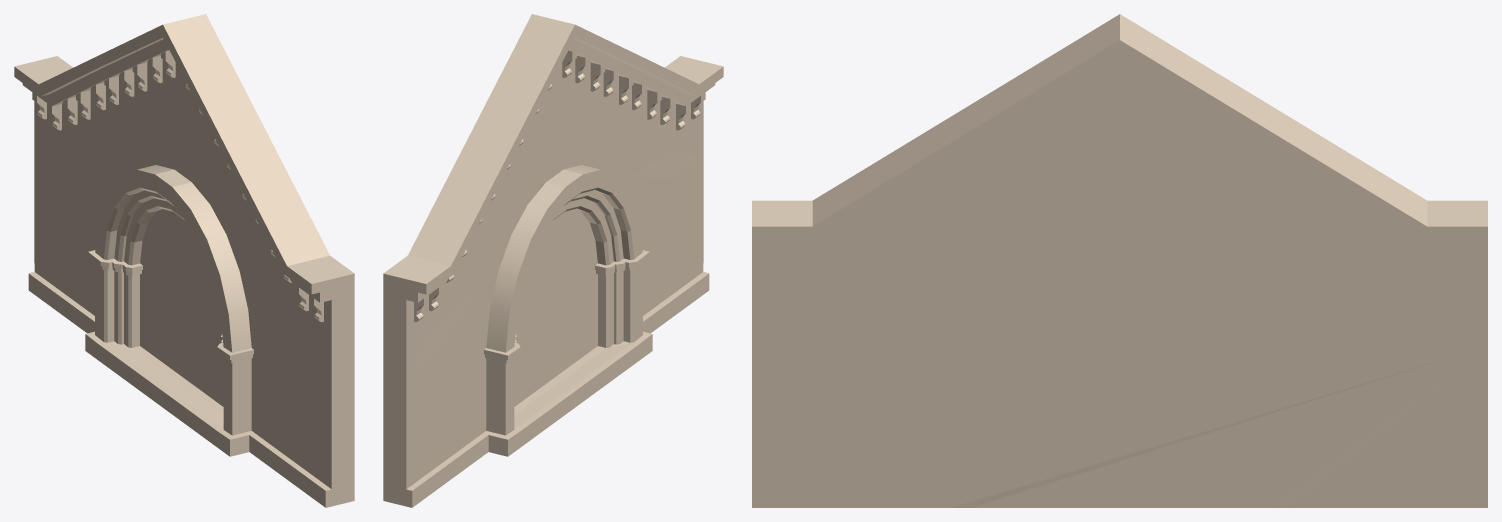
The model's file is BC_ArcWall_A.fbx.
3 views of the same model, side by side, from view 1: azimuth 30°, elevation 25°; view 2: azimuth 150°, elevation 25°; view 3: azimuth 270°, elevation 25° (orthographic). The views are drawn at different scales.
Parts seen in each view (by area): view 1: BC_ArcWall_A; view 2: BC_ArcWall_A; view 3: BC_ArcWall_A.
Part boxes in pixels (box(x1,y1,x2,y2)): BC_ArcWall_A: box(14, 14, 354, 507); BC_ArcWall_A: box(383, 14, 723, 507); BC_ArcWall_A: box(752, 14, 1487, 507).
Bounding box in the file's own units: 252 × 1884 × 2685.
